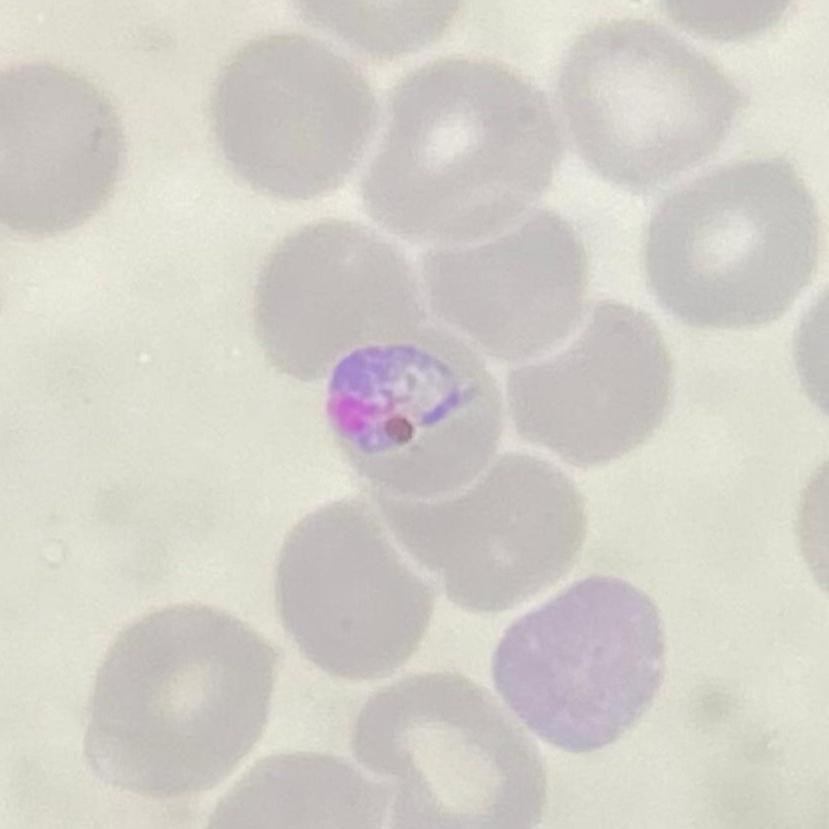Infected: (331, 334, 506, 506)
Uninfected: (82, 605, 275, 795), (366, 60, 556, 236), (556, 22, 736, 191), (400, 451, 584, 611), (351, 674, 544, 826), (495, 574, 662, 749), (646, 161, 816, 327), (277, 502, 436, 678), (263, 217, 429, 385), (213, 33, 377, 202), (512, 303, 674, 470), (418, 209, 595, 360), (1, 63, 123, 230)
